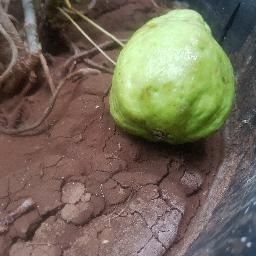Good_guava: (107, 2, 239, 142)
